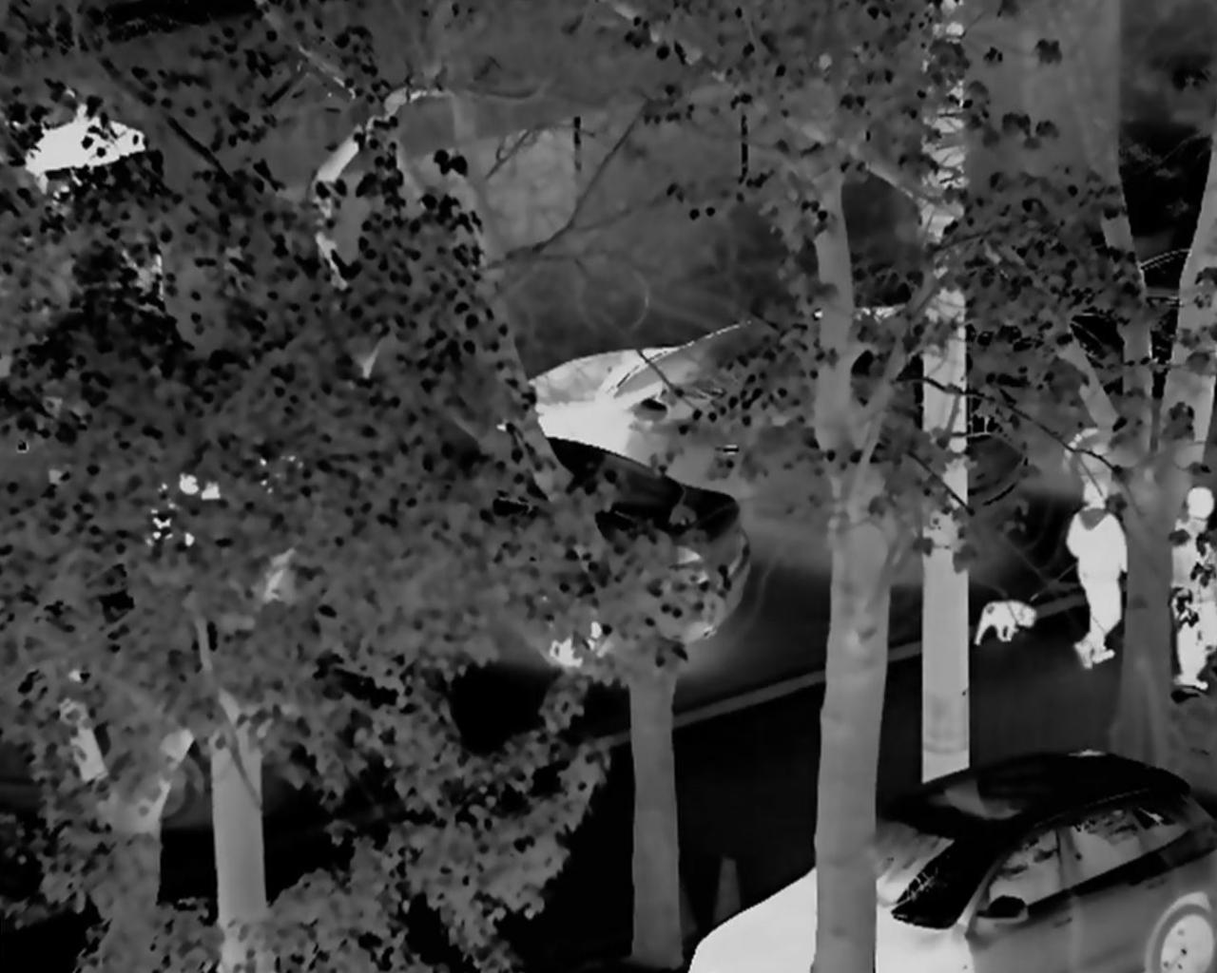person: (1053, 467, 1130, 671), (1161, 475, 1217, 685)
